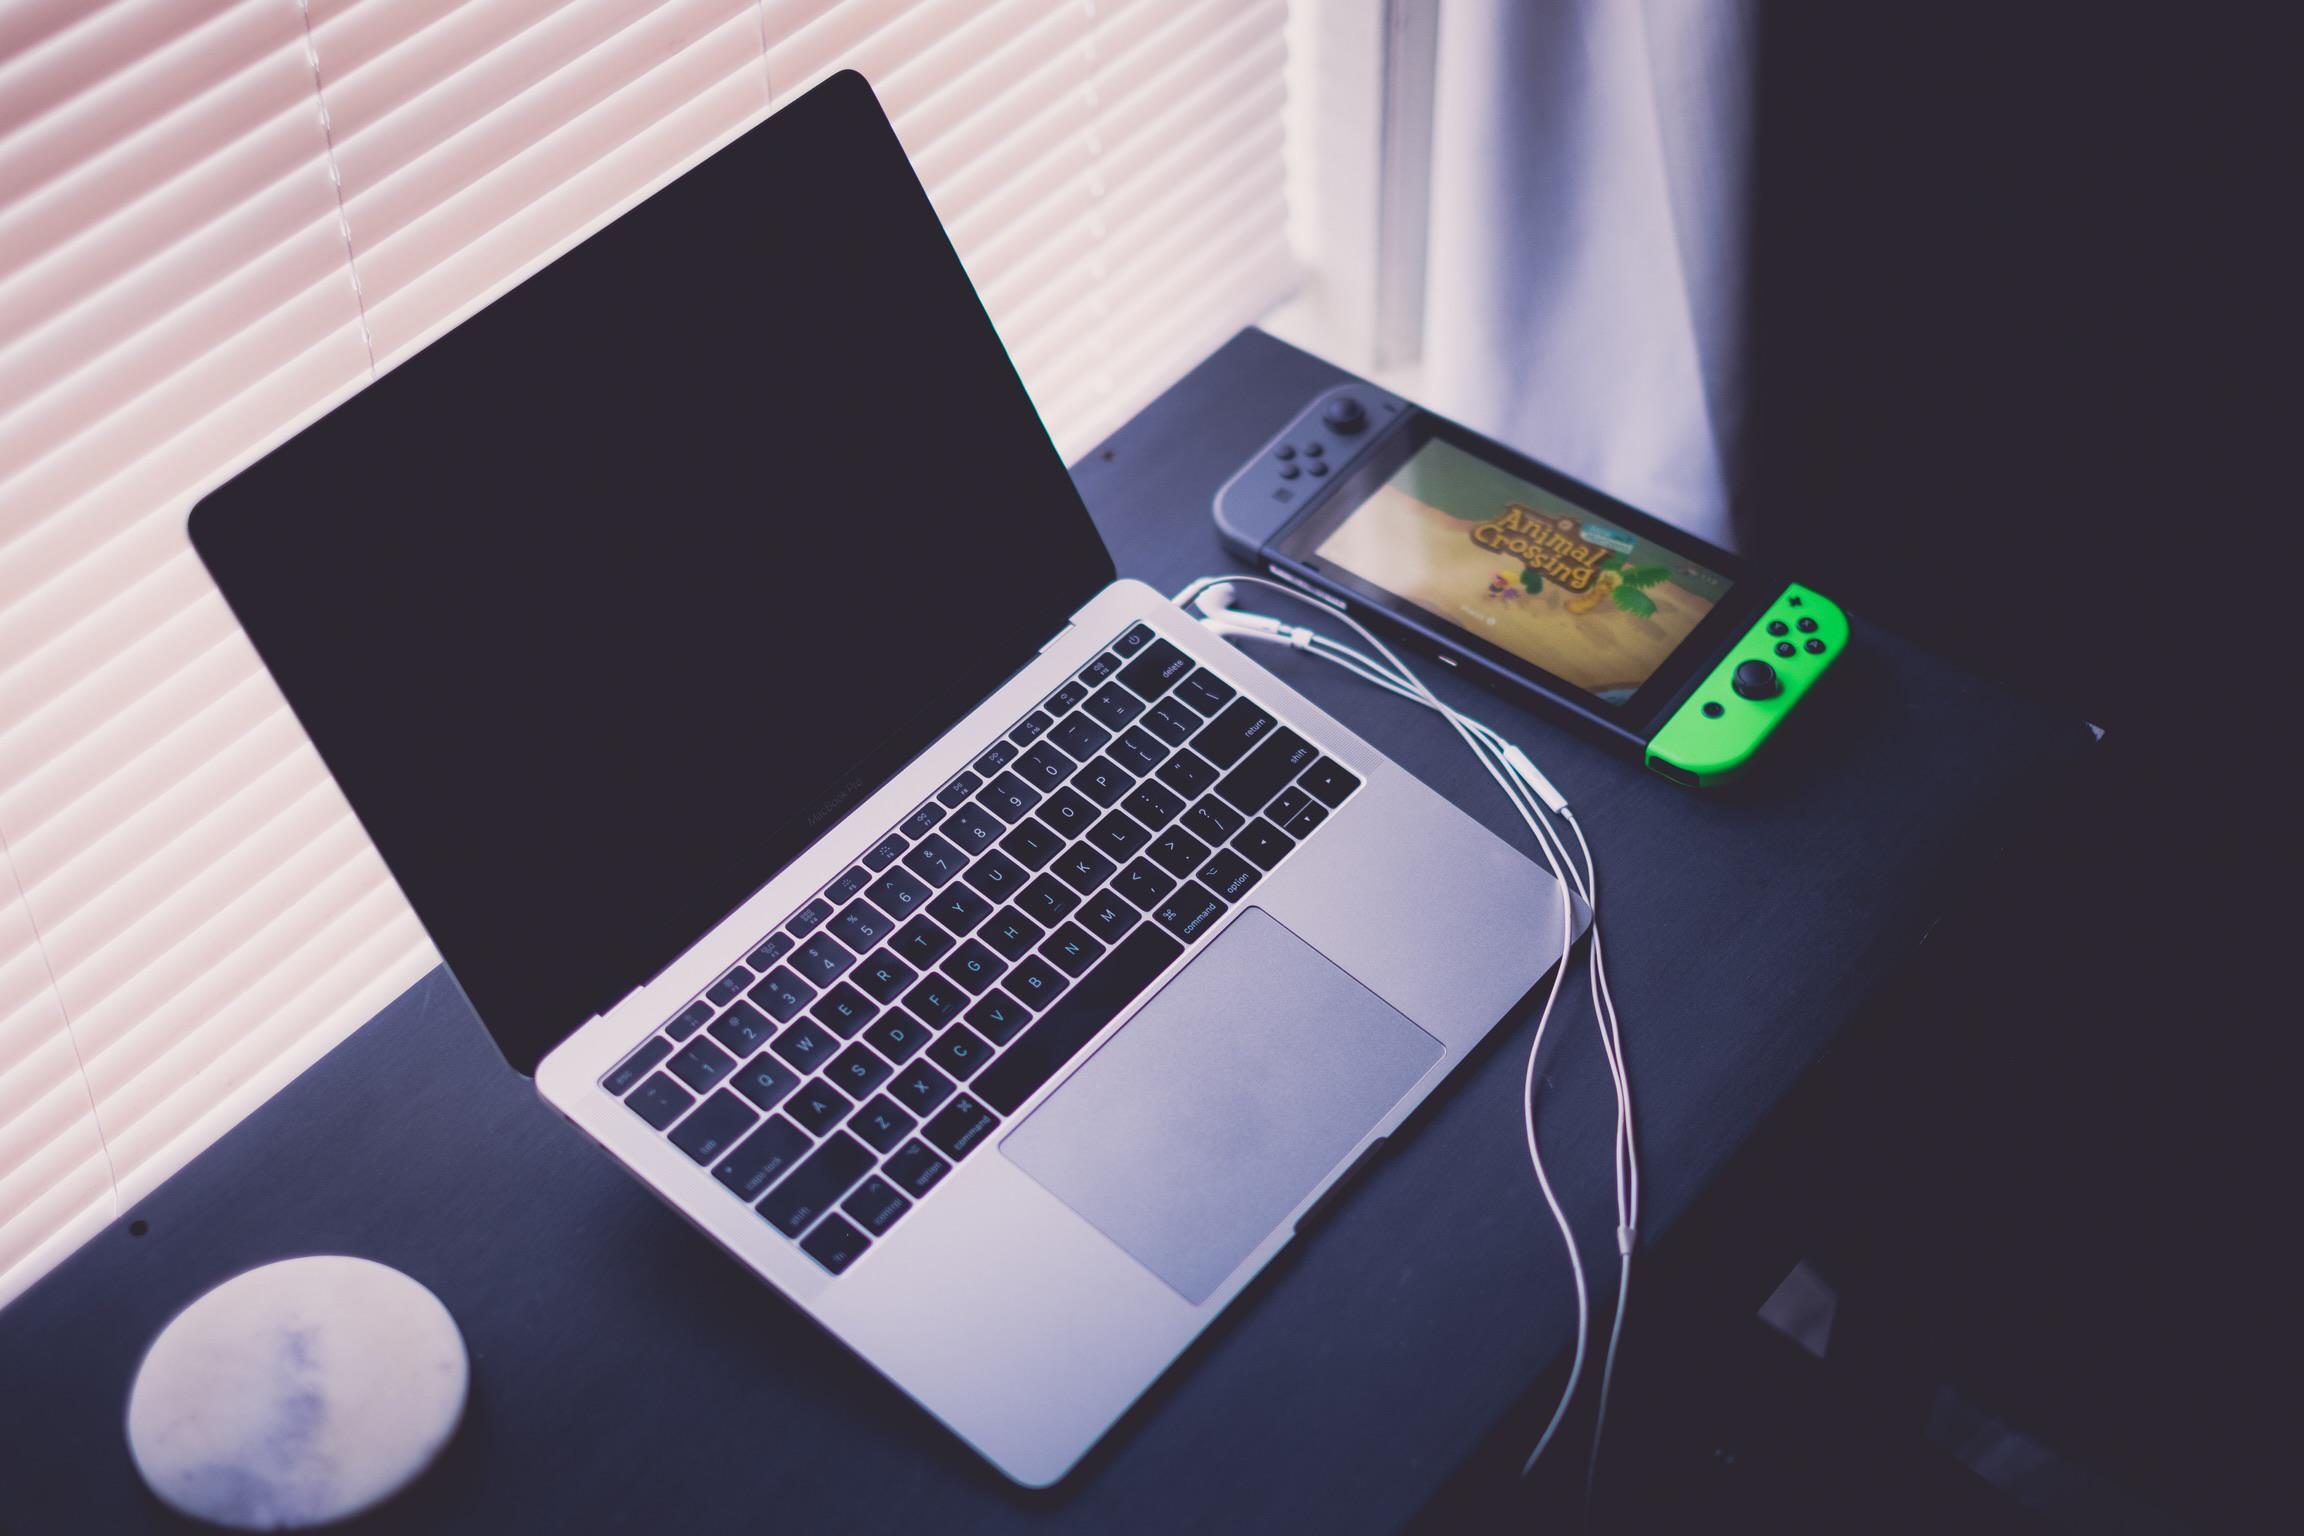Earphones (with Microphone): (1118, 535, 1687, 1521)
Gaming Console: (1193, 339, 1887, 802)
Laptop (OSX): (134, 58, 1617, 1515)
